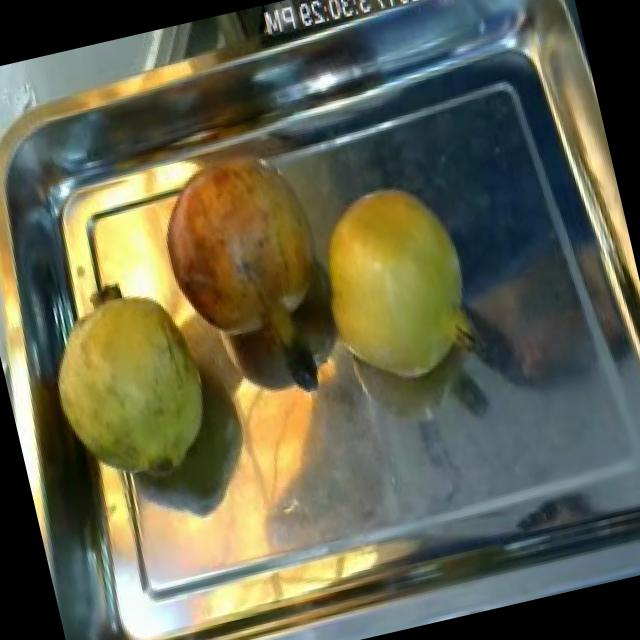fruit: (135, 128, 349, 369), (30, 256, 230, 508), (295, 158, 496, 406)
